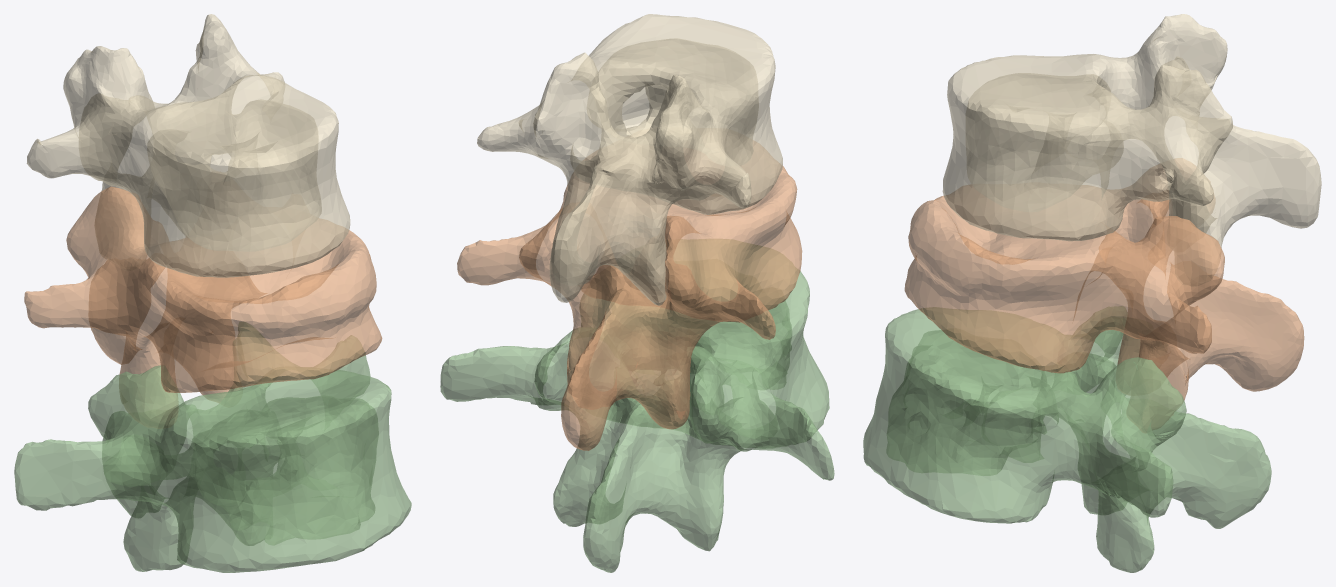
3 renders of one model, left to right at view 1: azimuth 30°, elevation 25°; view 2: azimuth 150°, elevation 25°; view 3: azimuth 270°, elevation 25°, orthographic. The views are drawn at different scales.
Visible parts, largest first — view 1: L3, L1, L2; view 2: L3, L1, L2; view 3: L3, L1, L2.
Part boxes in pixels (bbox=[...]): L3: bbox=[14, 322, 411, 572]; L1: bbox=[26, 14, 350, 277]; L2: bbox=[24, 186, 382, 428]; L3: bbox=[440, 239, 834, 572]; L1: bbox=[477, 14, 782, 305]; L2: bbox=[457, 140, 802, 450]; L3: bbox=[863, 306, 1271, 572]; L1: bbox=[942, 14, 1321, 285]; L2: bbox=[904, 158, 1304, 432].
Bounding box in the file's own units: 0.0936 × 0.1196 × 0.1005.
